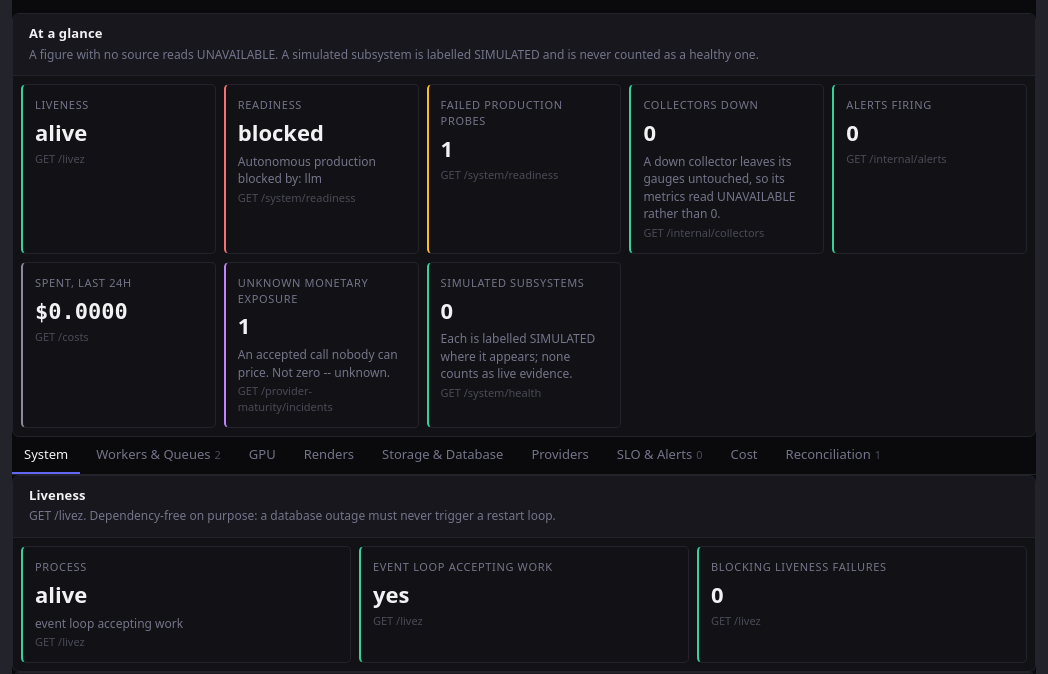
Test: a failed read is an alert, not a zero › keeps failure distinguishable from emptiness
Click the tab "Cost": (744, 455) top-left (718, 437), bottom-right (770, 474)
(page scrolled)
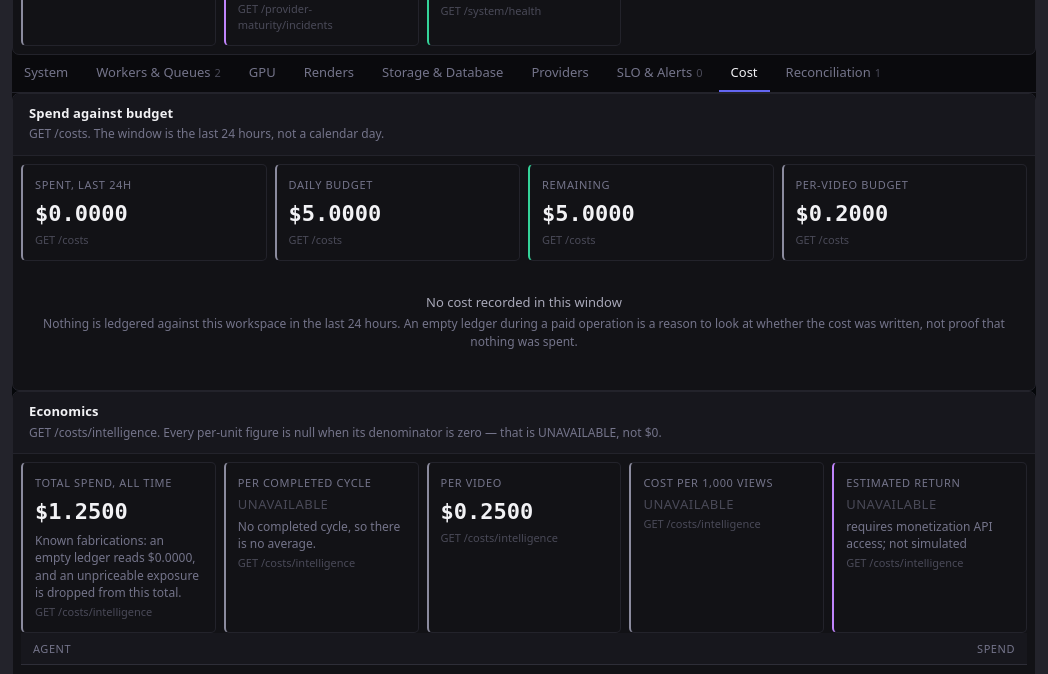
Expected: the text "No cost recorded in this window" is shown, top-left (426, 293), bottom-right (622, 311)
